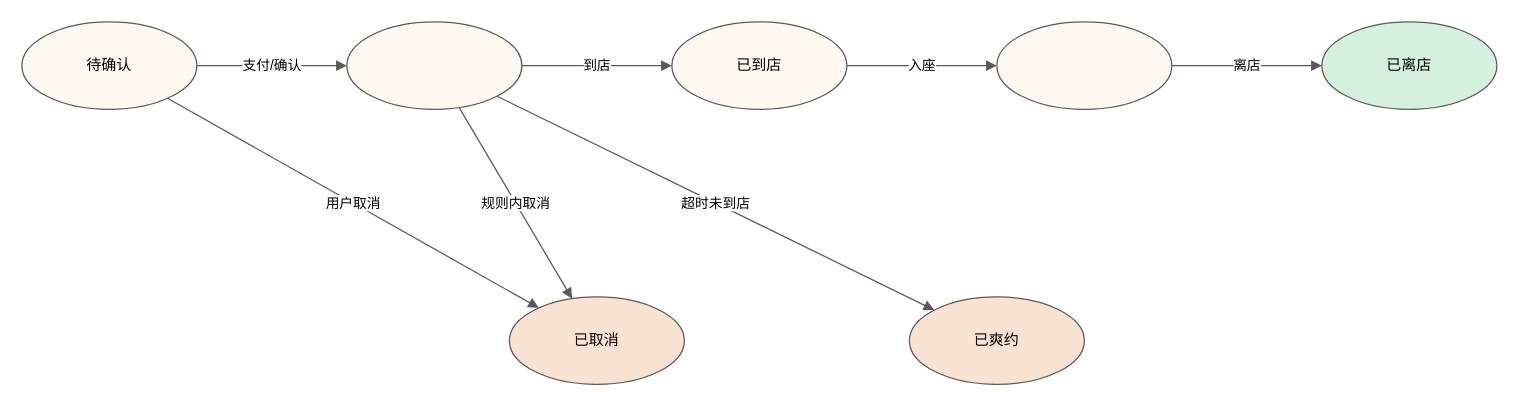
The diagram is 1519 pixels wide and 406 high, and some of its shapes have lost their labels. The centre of each missing label's shape, as x and y in pixels:
已入座: pixel 1084 65
已确认: pixel 434 65
